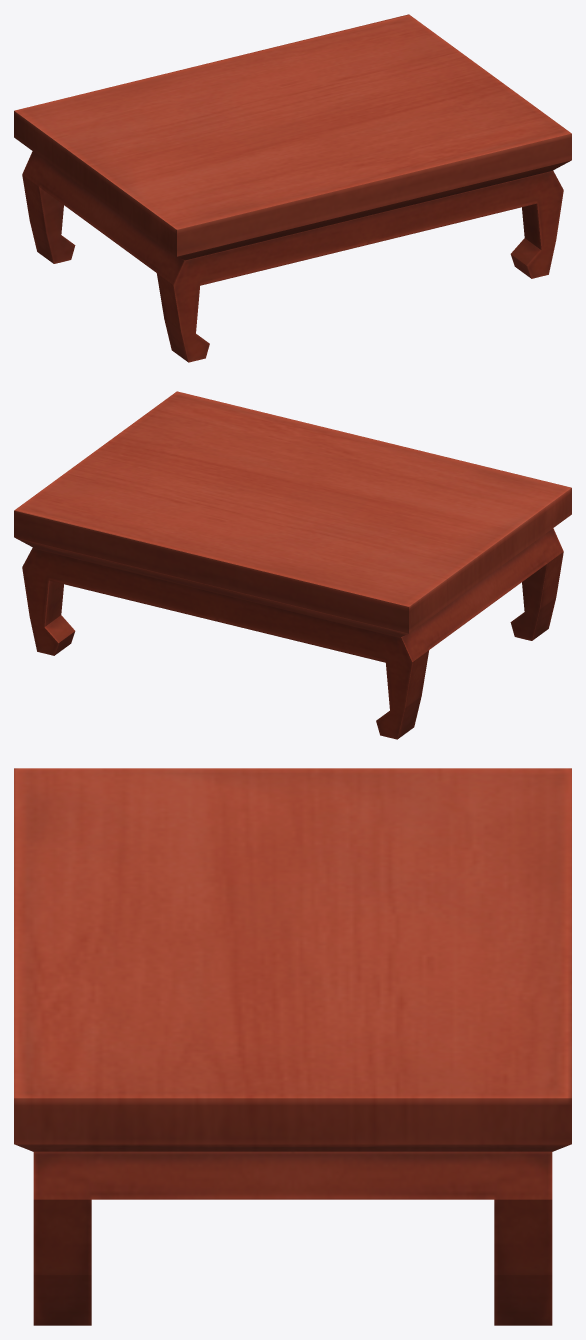
File: teaTable01.DAE
3 views of the same model, one above another, from view 1: azimuth 30°, elevation 25°; view 2: azimuth 150°, elevation 25°; view 3: azimuth 270°, elevation 25° (orthographic). The views are drawn at different scales.
Visible parts, largest first — view 1: Tea_table_01-Pivot; view 2: Tea_table_01-Pivot; view 3: Tea_table_01-Pivot.
Boxes of the visible parts, <box> form: Tea_table_01-Pivot: <box>14,14,571,362</box>; Tea_table_01-Pivot: <box>14,391,571,739</box>; Tea_table_01-Pivot: <box>14,768,571,1325</box>.
Size of the model in its own units: 181 by 61.75 by 129.
1 material, 1 textured.
